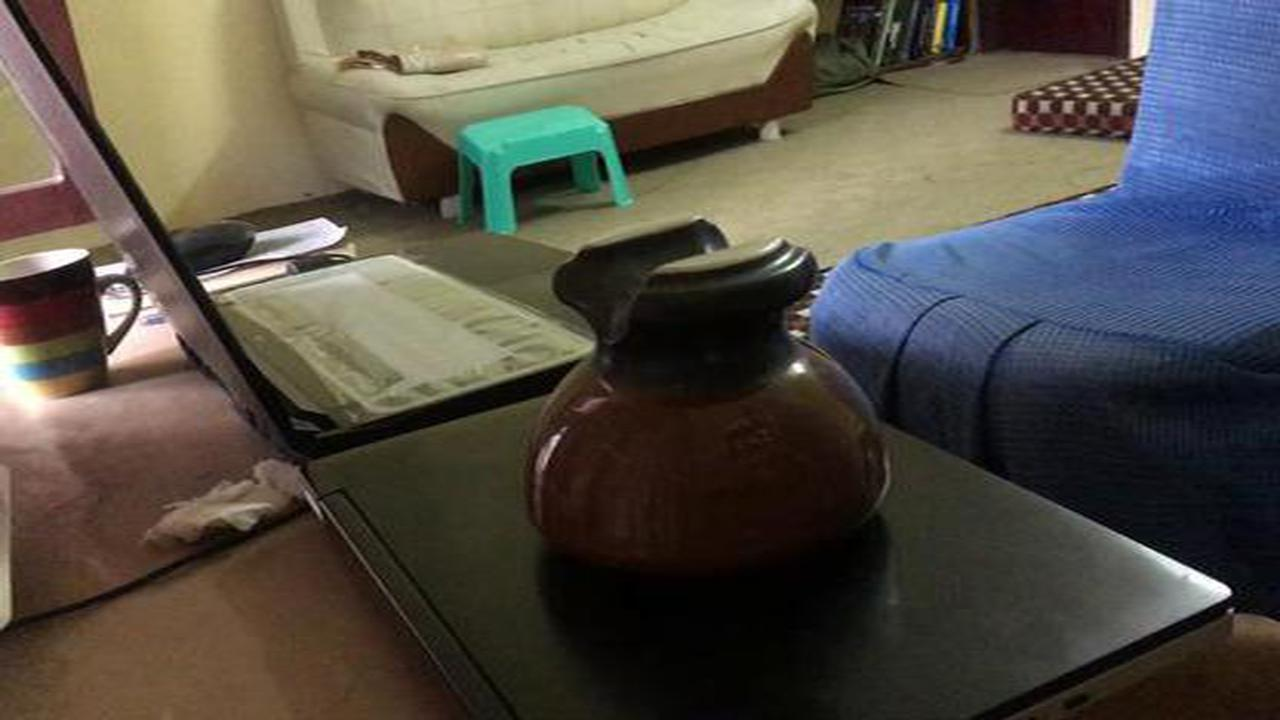insulator_pin: (505, 217, 917, 611)
